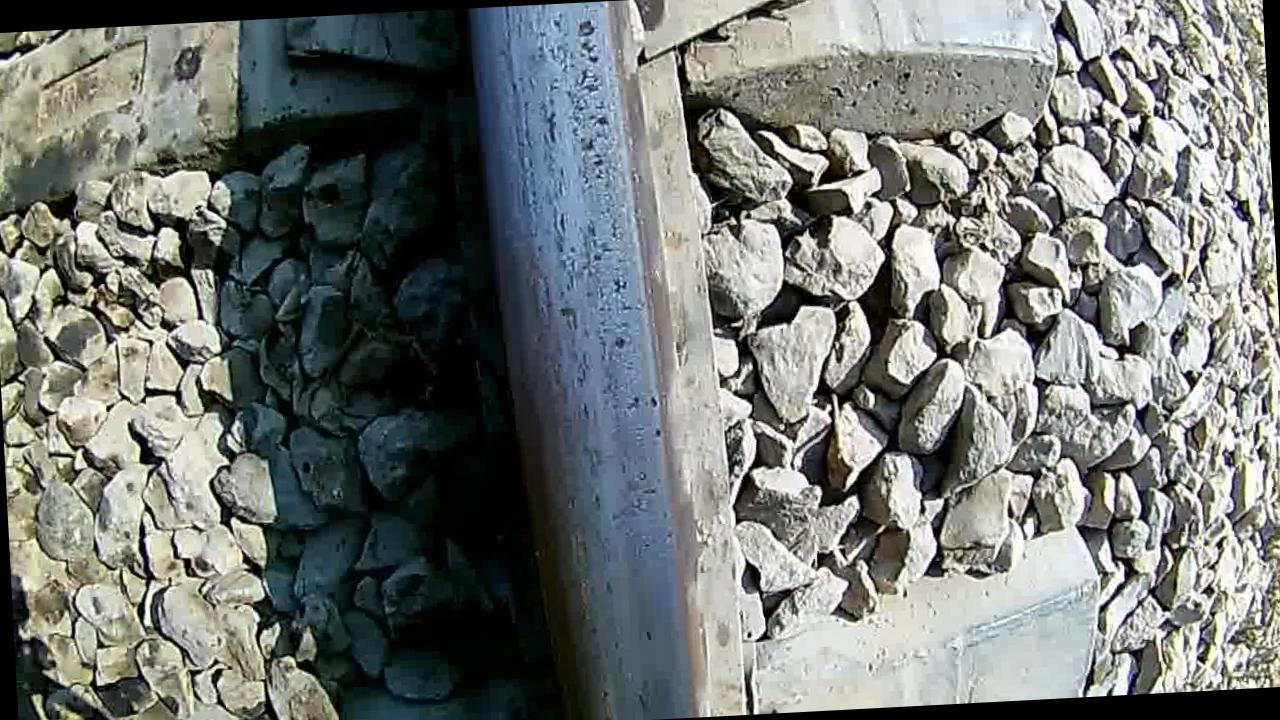crack: (470, 1, 698, 720)
